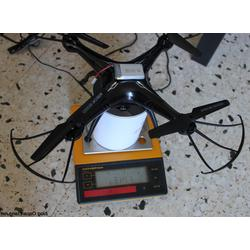drone: (10, 33, 245, 186)
